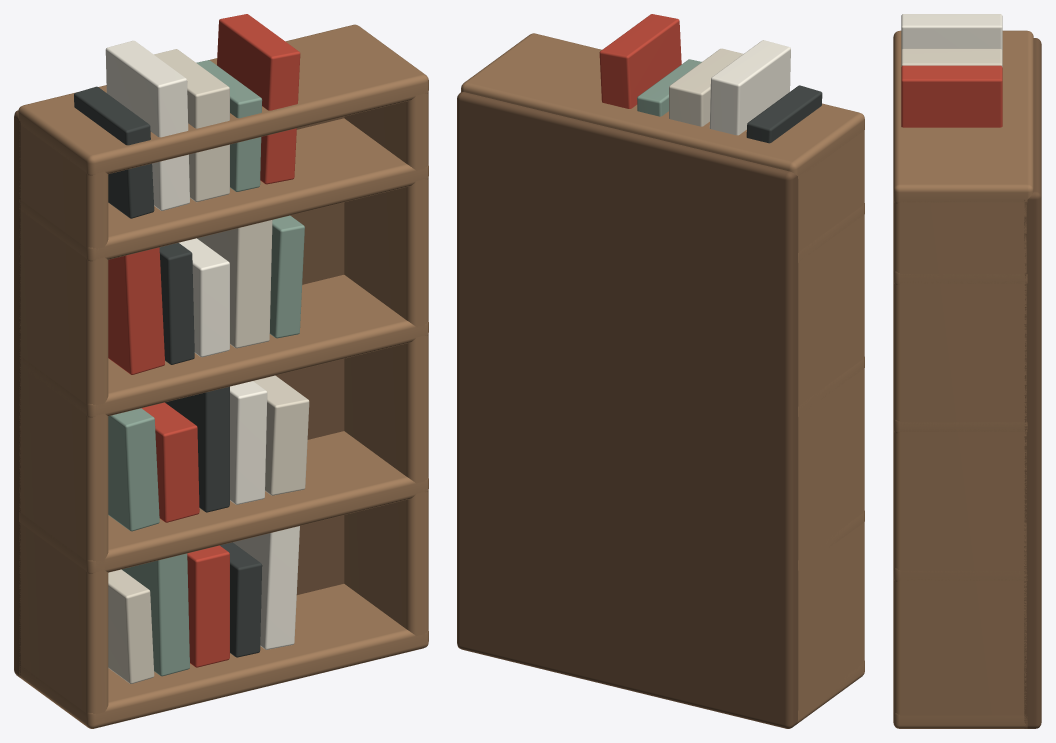
The model's file is bookshelf.glb.
3 renders of one model, left to right at view 1: azimuth 30°, elevation 25°; view 2: azimuth 150°, elevation 25°; view 3: azimuth 270°, elevation 25°, orthographic. The views are drawn at different scales.
Parts seen in each view (by area): view 1: Bookshelf Side, Bookshelf Side.001, Bookshelf Shelf.004, Bookshelf Shelf, Bookshelf Shelf.003, Bookshelf Shelf.002, Bookshelf Shelf.001, Bookshelf Back, Book.016, Book.019, Book.010, Book.005 (+16 smaller); view 2: Bookshelf Back, Bookshelf Side, Bookshelf Shelf.004, Book.019, Book.016, Book.017, Book.015, Book.018, Bookshelf Shelf.003; view 3: Bookshelf Side.001, Bookshelf Shelf.004, Bookshelf Back, Book.019, Book.016, Bookshelf Shelf, Book.017, Bookshelf Shelf.002, Bookshelf Shelf.003, Bookshelf Shelf.001.
Part boxes in pixels (<box>): Bookshelf Side: <box>19,124,108,723</box>; Bookshelf Side.001: <box>344,91,428,645</box>; Bookshelf Shelf.004: <box>18,24,428,175</box>; Bookshelf Shelf: <box>19,584,428,728</box>; Bookshelf Shelf.003: <box>19,118,428,261</box>; Bookshelf Shelf.002: <box>21,275,428,417</box>; Bookshelf Shelf.001: <box>19,431,428,573</box>; Bookshelf Back: <box>14,110,344,677</box>; Book.016: <box>105,40,189,210</box>; Book.019: <box>217,14,300,184</box>; Book.010: <box>108,247,164,374</box>; Book.005: <box>108,408,159,531</box>; Bookshelf Back: <box>457,92,798,728</box>; Bookshelf Side: <box>798,131,864,719</box>; Bookshelf Shelf.004: <box>461,33,864,178</box>; Book.019: <box>599,14,681,108</box>; Book.016: <box>709,40,790,135</box>; Book.017: <box>669,48,743,126</box>; Book.015: <box>746,85,822,143</box>; Book.018: <box>637,59,701,116</box>; Bookshelf Shelf.003: <box>798,203,864,262</box>; Bookshelf Side.001: <box>893,200,1026,718</box>; Bookshelf Shelf.004: <box>893,30,1033,203</box>; Bookshelf Back: <box>1024,38,1041,728</box>; Book.019: <box>901,65,1002,127</box>; Book.016: <box>901,14,1002,50</box>; Bookshelf Shelf: <box>893,712,1027,728</box>; Book.017: <box>901,48,1002,67</box>; Bookshelf Shelf.002: <box>893,419,1027,432</box>; Bookshelf Shelf.003: <box>893,271,1027,284</box>; Bookshelf Shelf.001: <box>893,567,1027,581</box>.
Size of the model in its own units: 0.48 by 0.8408 by 0.19.
